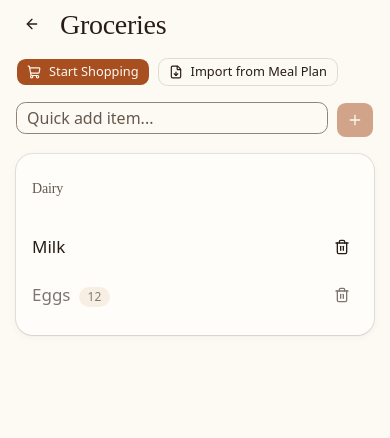
Scenario: ShoppingListDetailPage — sticky mobile progress header › renders the sticky progress header with count and Back to Edit in shopping mode
Step 1. Click the button "Start Shopping" → (83, 72), box [16,58,150,86]
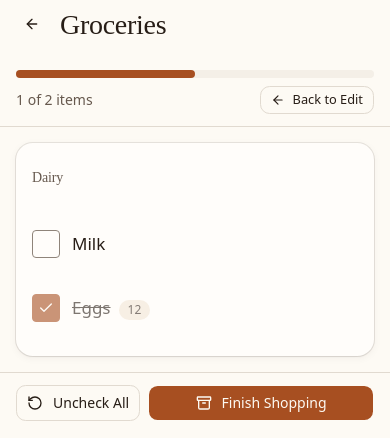
Now the text "1 of 2 items" is shown, box [16,89,93,110]
Now the button "Back to Edit" is shown, box [260,86,374,114]
